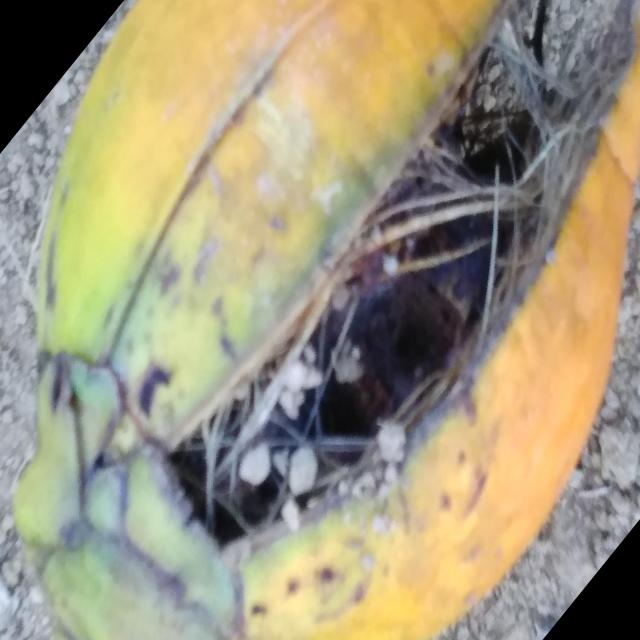damaged: (14, 0, 640, 640)
